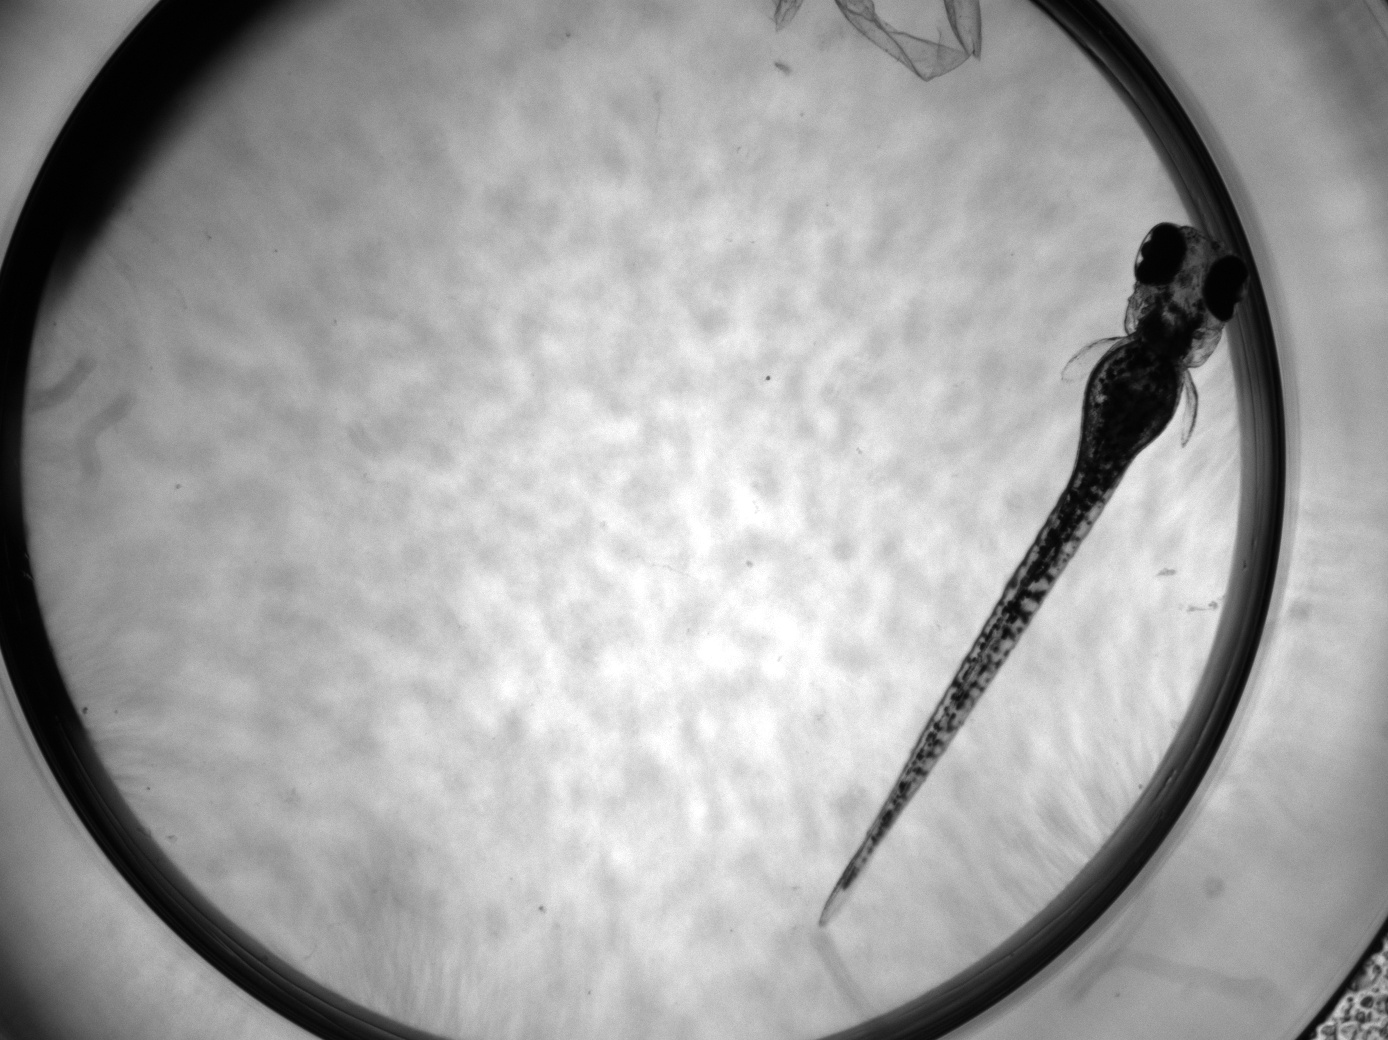embryo: (815, 222, 1249, 930)
eye: (1134, 222, 1186, 287), (1200, 256, 1250, 321)
yolksac: (1080, 340, 1183, 454)
